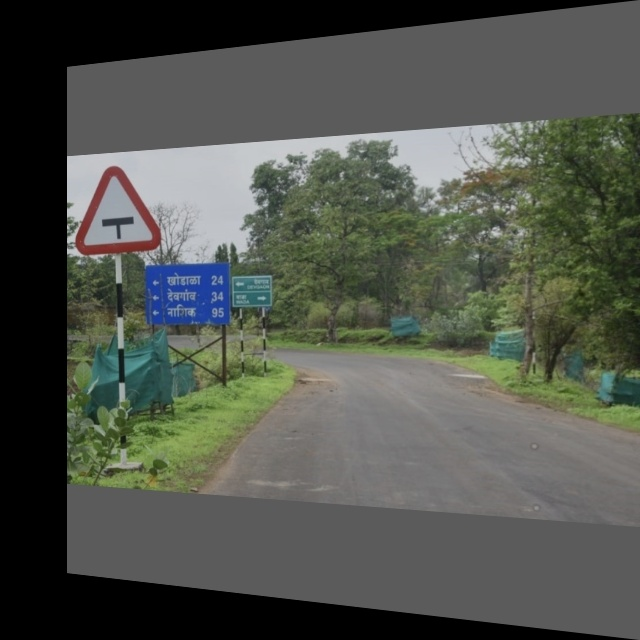T_Intersection: (78, 160, 163, 253)
